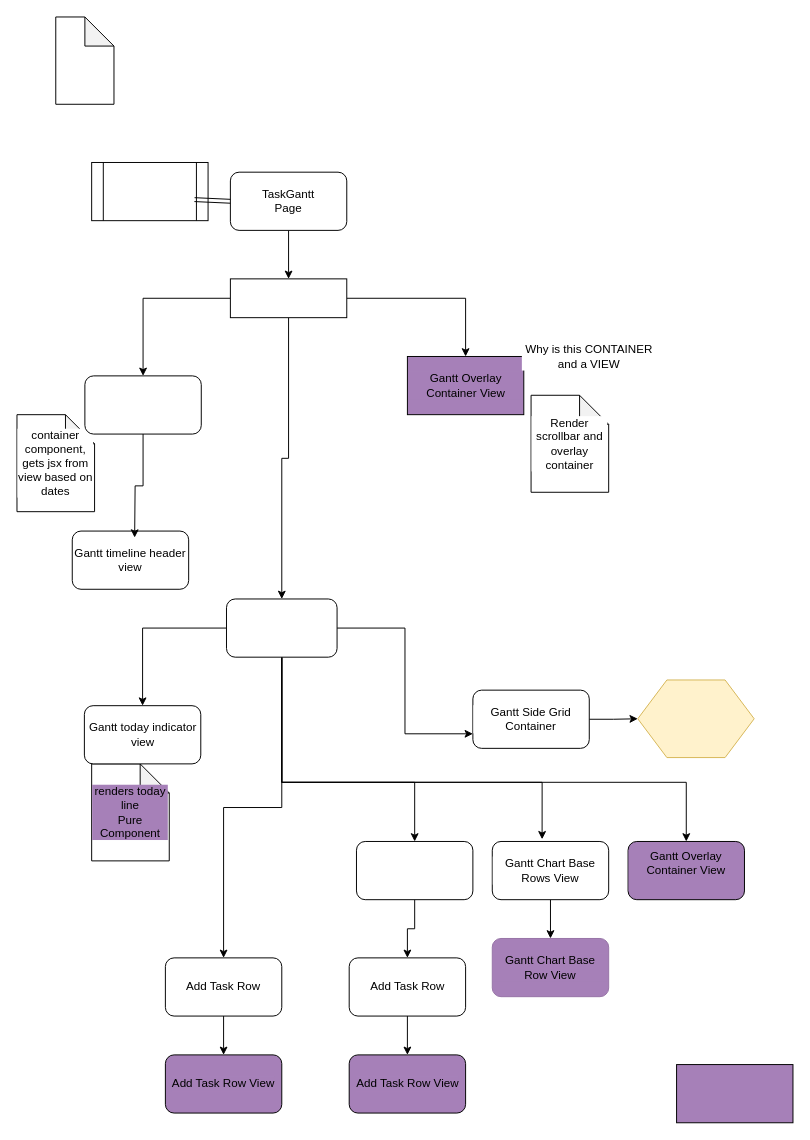
Image size: 810x1140. Some labels were removed from this diagram. The shapes that lost their labels are listed below. From the top down, each one's box as (x1, y1, x2, y2) in pixels, then its label:
(91, 162, 208, 221): Abstract Task Page
(229, 278, 347, 318): Gantt Container
(84, 375, 201, 434): Gantt timeline header
(226, 598, 337, 657): Gantt Chart
(637, 679, 754, 758): Schedule Grid Container
(356, 841, 473, 900): Gantt Chart Rows View
(676, 1064, 793, 1123): Pure Components
